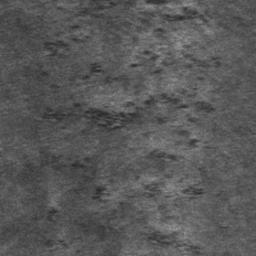Rolled in scale: (17, 0, 256, 256), (44, 221, 88, 256), (31, 198, 59, 223), (239, 126, 256, 136)
